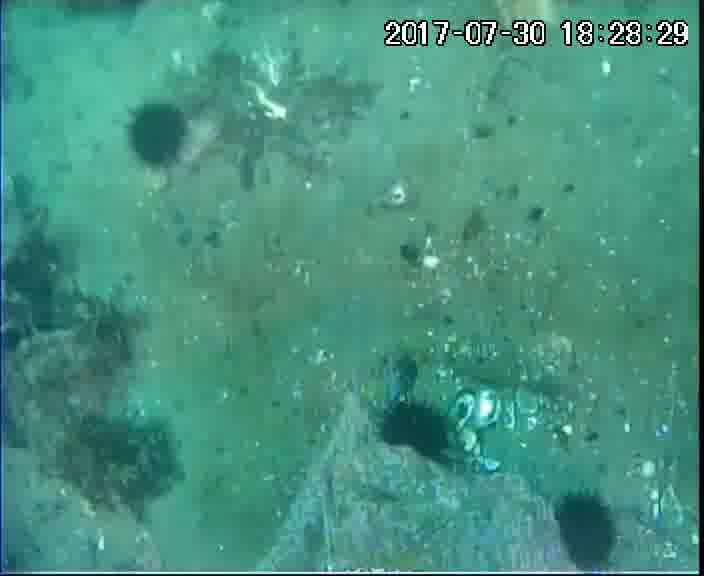echinus: (553, 494, 622, 576), (382, 397, 454, 461), (129, 104, 191, 174)
